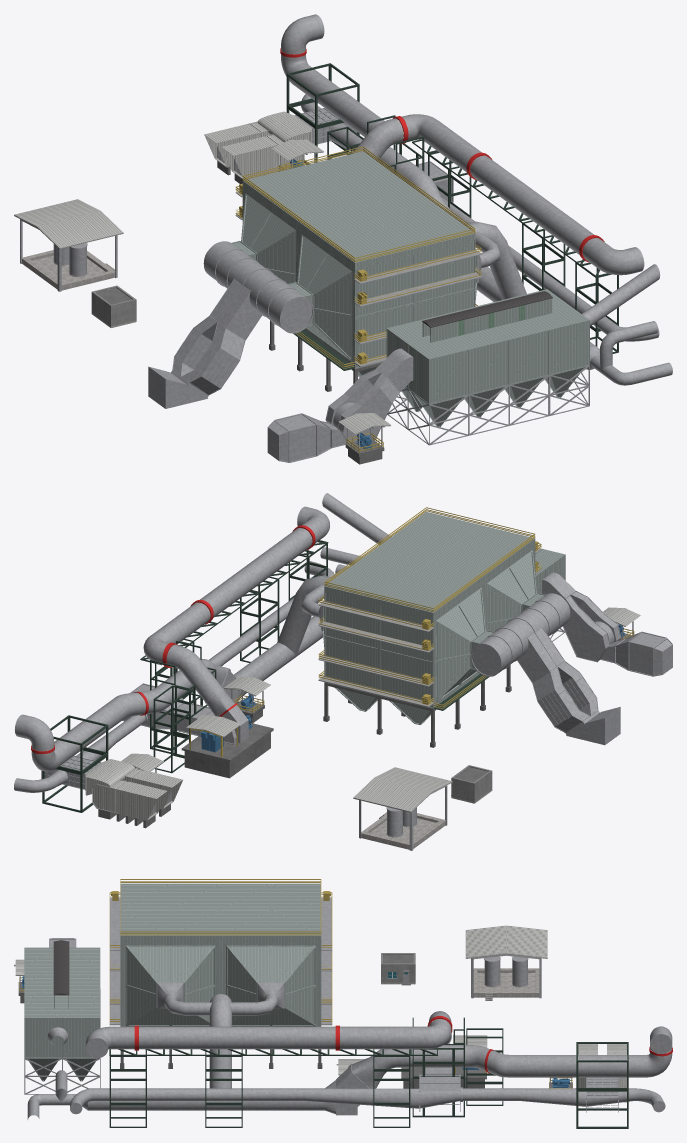
The model's file is 主电除尘.glb.
3 views of the same model, one above another, from view 1: azimuth 30°, elevation 25°; view 2: azimuth 150°, elevation 25°; view 3: azimuth 270°, elevation 25° (orthographic). The views are drawn at different scales.
Visible parts, largest first — view 1: 主电除尘12, 主电除尘00, 主电除尘02, 主电除尘06, 主电除尘05, 主电除尘11, 主电除尘13, 主电除尘03, 主电除尘09; view 2: 主电除尘12, 主电除尘00, 主电除尘02, 主电除尘06, 主电除尘13, 主电除尘05, 主电除尘11, 主电除尘09, 主电除尘08, 主电除尘07; view 3: 主电除尘12, 主电除尘00, 主电除尘06, 主电除尘02, 主电除尘05, 主电除尘13, 主电除尘11, 主电除尘03, 主电除尘09, 主电除尘08.
Part boxes in pixels (left/top/right/bottom): 主电除尘12: left=20, top=14, right=672, bottom=462; 主电除尘00: left=231, top=151, right=589, bottom=426; 主电除尘02: left=14, top=111, right=390, bottom=434; 主电除尘06: left=286, top=63, right=618, bottom=370; 主电除尘05: left=235, top=146, right=481, bottom=453; 主电除尘11: left=22, top=250, right=136, bottom=327; 主电除尘13: left=96, top=161, right=384, bottom=464; 主电除尘03: left=422, top=291, right=552, bottom=327; 主电除尘09: left=91, top=285, right=136, bottom=326; 主电除尘12: left=14, top=493, right=672, bottom=850; 主电除尘00: left=322, top=511, right=565, bottom=724; 主电除尘02: left=85, top=607, right=640, bottom=820; 主电除尘06: left=42, top=540, right=488, bottom=812; 主电除尘13: left=98, top=633, right=630, bottom=828; 主电除尘05: left=189, top=507, right=634, bottom=757; 主电除尘11: left=361, top=789, right=492, bottom=849; 主电除尘09: left=451, top=765, right=492, bottom=801; 主电除尘08: left=31, top=525, right=315, bottom=754; 主电除尘07: left=200, top=624, right=624, bottom=752; 主电除尘12: left=14, top=897, right=672, bottom=1119; 主电除尘00: left=24, top=883, right=321, bottom=1081; 主电除尘06: left=109, top=1017, right=628, bottom=1128; 主电除尘02: left=15, top=925, right=626, bottom=1087; 主电除尘05: left=19, top=879, right=572, bottom=1088; 主电除尘13: left=18, top=955, right=626, bottom=1102; 主电除尘11: left=381, top=968, right=539, bottom=1000; 主电除尘03: left=53, top=940, right=69, bottom=995; 主电除尘09: left=381, top=953, right=415, bottom=982; 主电除尘08: left=134, top=1016, right=672, bottom=1073.
Bounding box in the file's own units: 69.04 × 24.28 × 106.
Materials: 13 (12 with a texture image).
